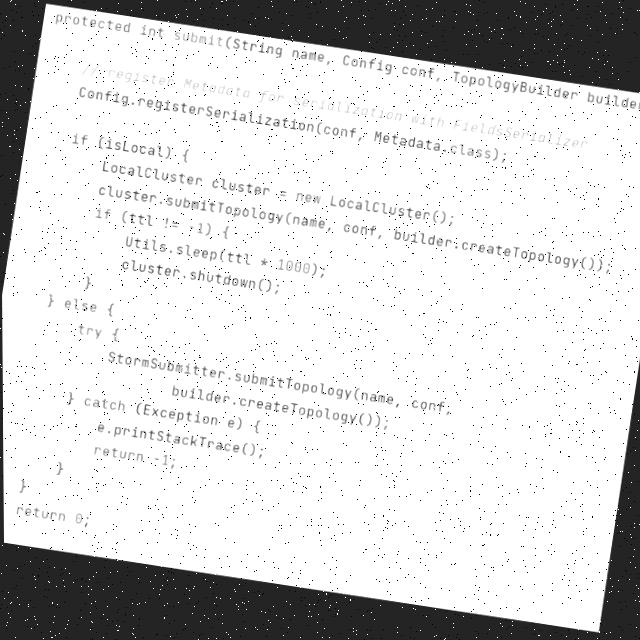code_screen: (2, 3, 640, 628)
